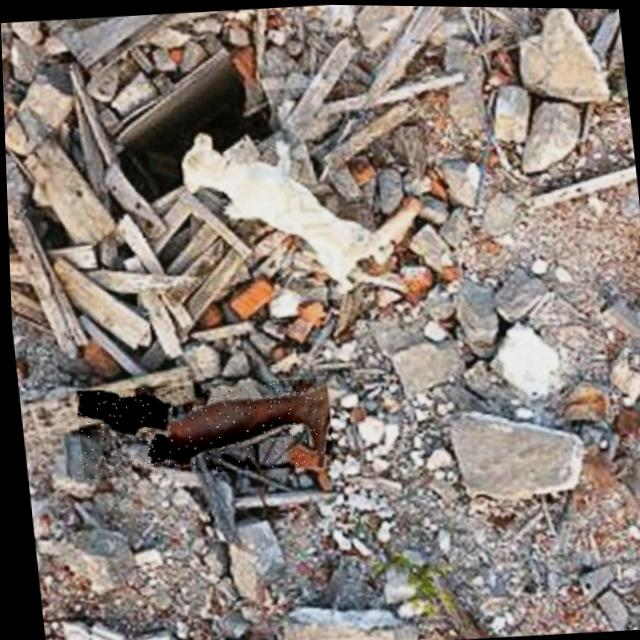Person in Rubble: (71, 373, 332, 481)
